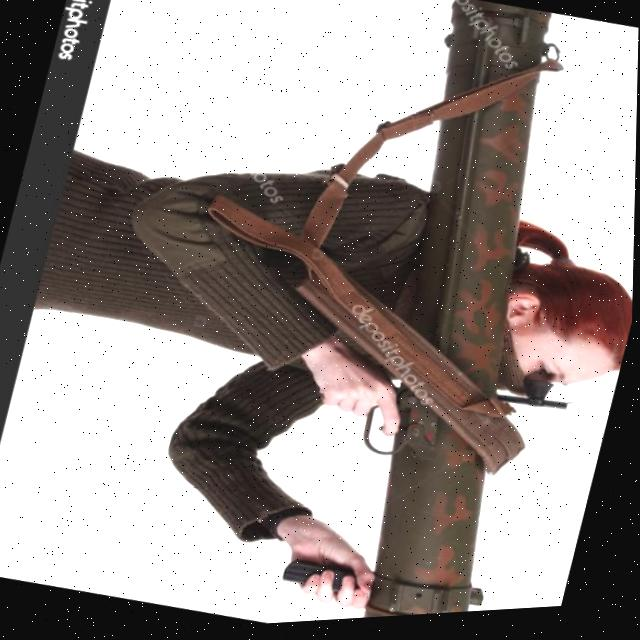rocket: (285, 0, 611, 626)
